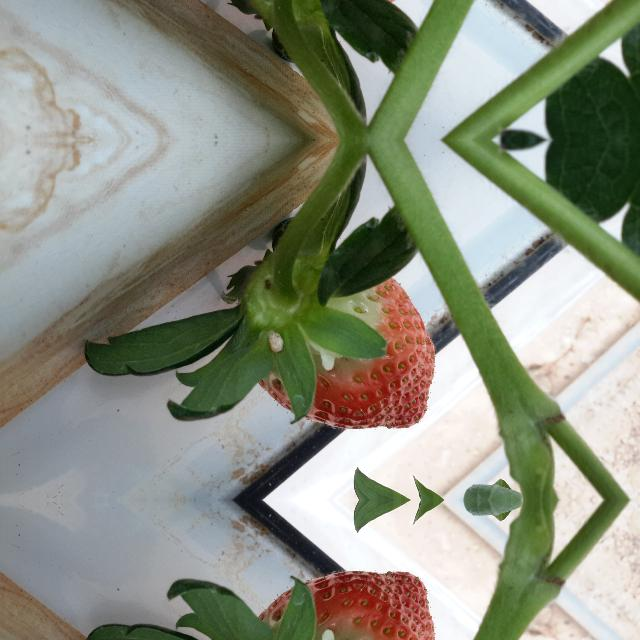Health_100: (257, 276, 435, 429), (257, 570, 435, 640)
